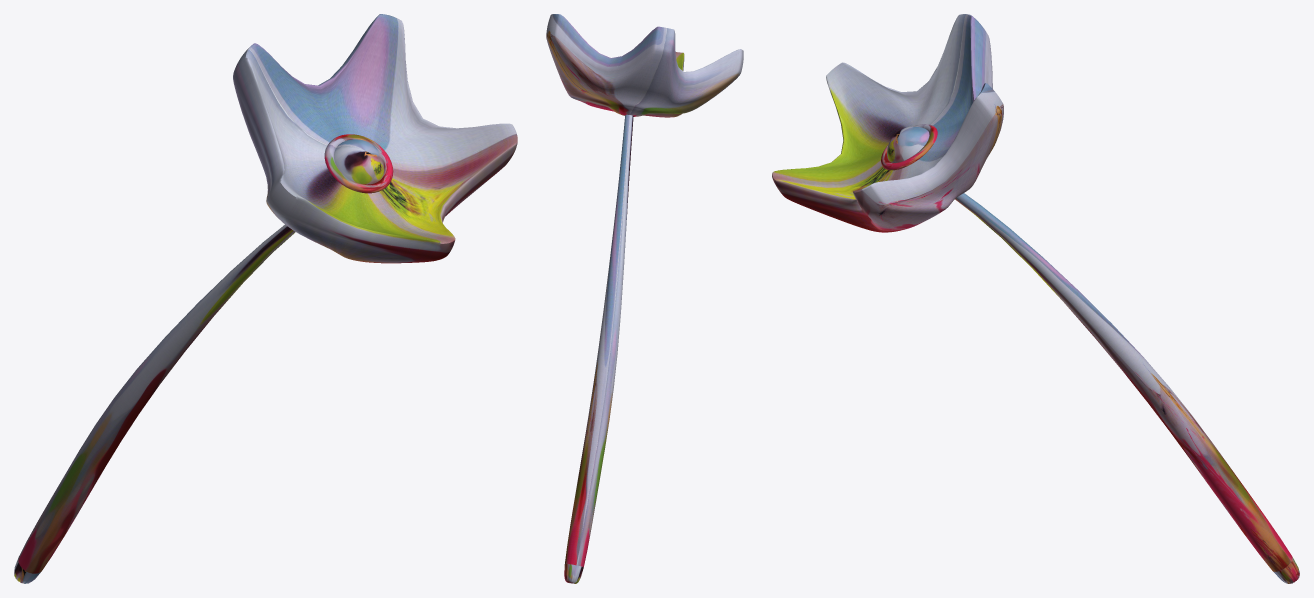
Rendered from stemflower.001.gltf.
3 renders of one model, left to right at view 1: azimuth 30°, elevation 25°; view 2: azimuth 150°, elevation 25°; view 3: azimuth 270°, elevation 25°, orthographic. The views are drawn at different scales.
Visible parts, largest first — view 1: stemflower.001; view 2: stemflower.001; view 3: stemflower.001.
Part boxes in pixels (<box>): stemflower.001: <box>14,14,517,583</box>; stemflower.001: <box>546,14,743,583</box>; stemflower.001: <box>772,14,1299,583</box>.
Bounding box in the file's own units: 5.91 × 13.92 × 11.29.
1 material, 1 textured.
